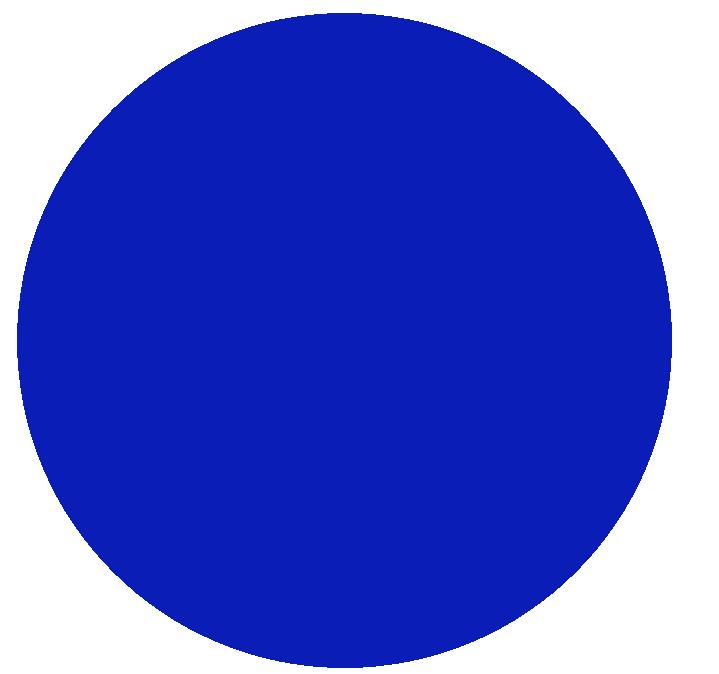blue_circle: (2, 6, 682, 674)
